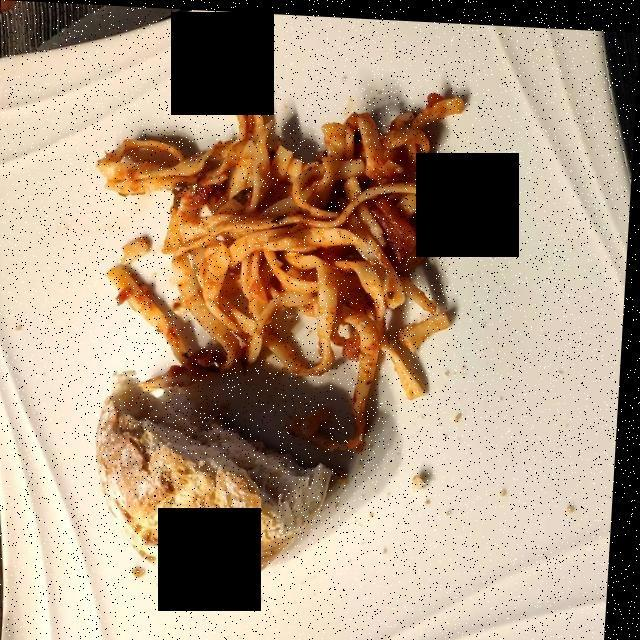pasta: (100, 46, 478, 475)
